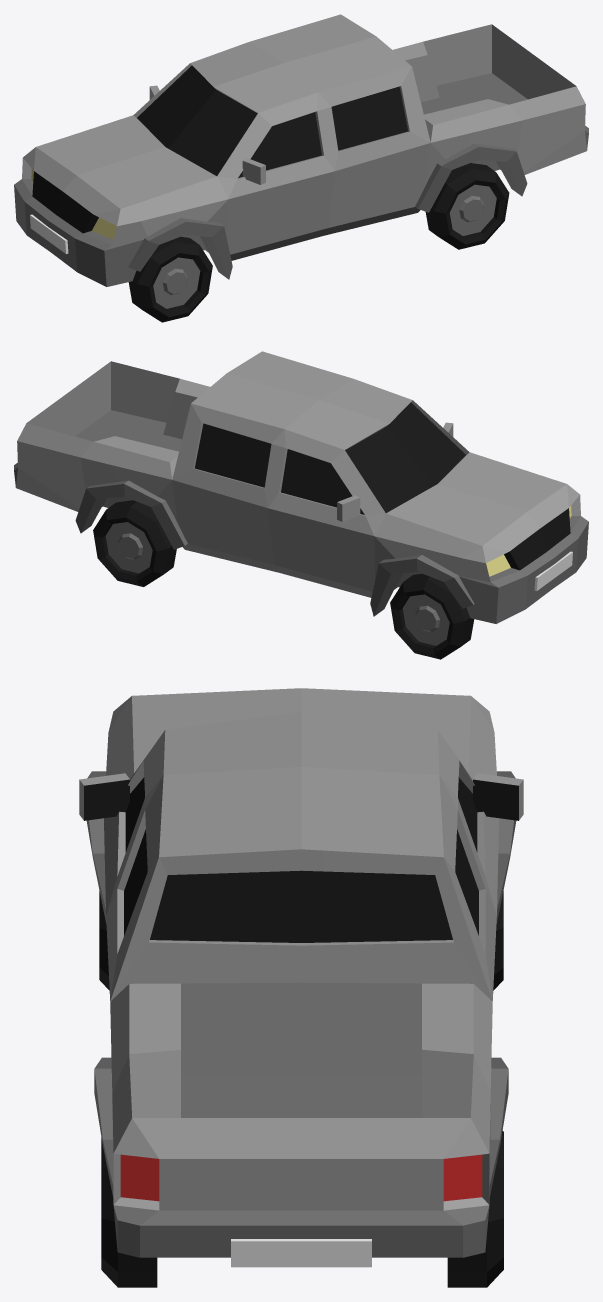
Rendered from vehicle_static_car_5.glb.
3 views of the same model, one above another, from view 1: azimuth 30°, elevation 25°; view 2: azimuth 150°, elevation 25°; view 3: azimuth 270°, elevation 25° (orthographic). The views are drawn at different scales.
Visible parts, largest first — view 1: Wheel5-4; view 2: Wheel5-4; view 3: Wheel5-4.
Boxes of the visible parts, box(x1,y1,x2,y2) form: Wheel5-4: box(14, 14, 588, 322); Wheel5-4: box(14, 351, 588, 659); Wheel5-4: box(79, 688, 523, 1287).
Size of the model in its own units: 5.01 by 1.8 by 1.92.
Materials: 4 (4 with a texture image).
